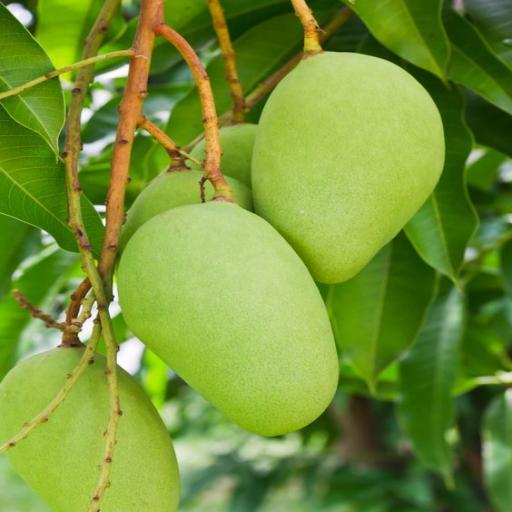mango: (118, 201, 338, 435), (253, 52, 443, 283), (0, 349, 183, 511)
